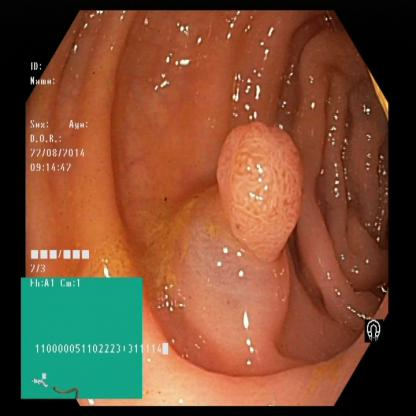Labels: (23, 278, 169, 399), (26, 57, 98, 279), (354, 310, 396, 350)
Polyps: (212, 121, 301, 267)
